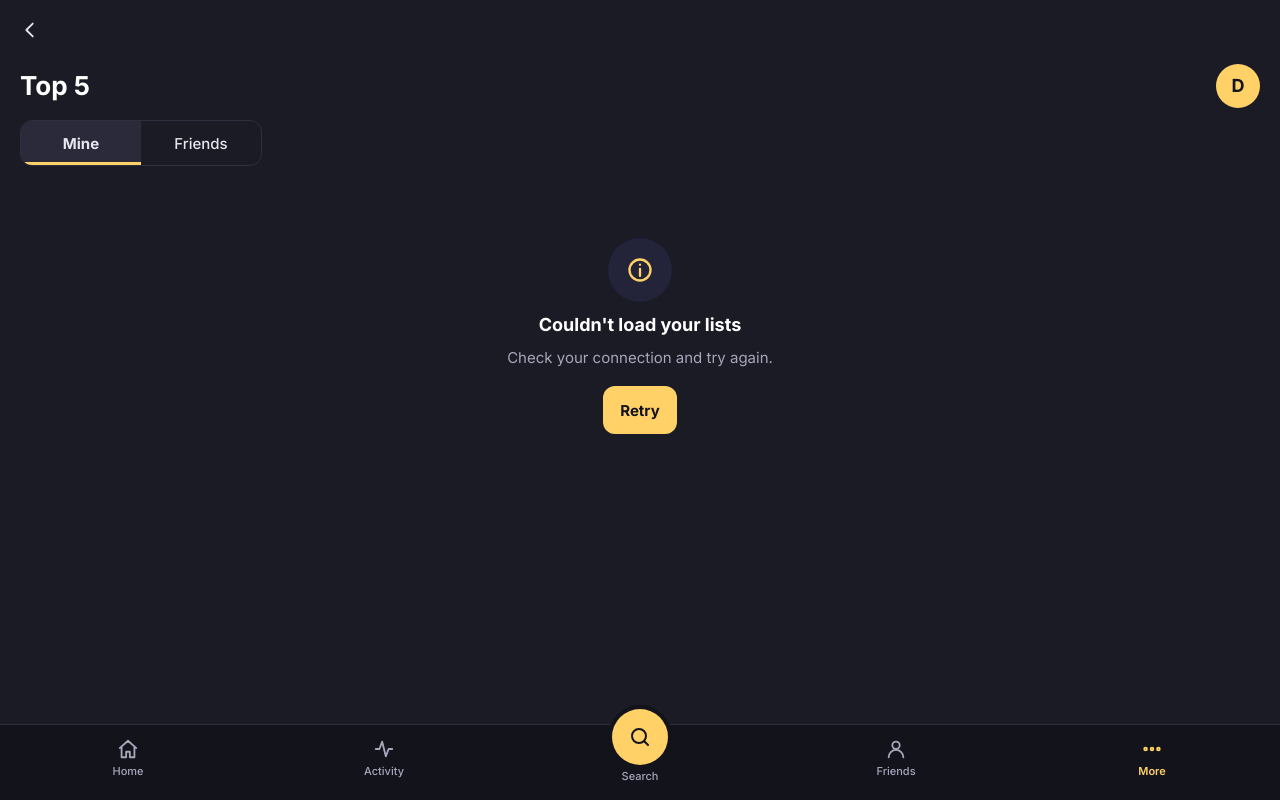
it: Top 5 screen › shows a retry, not an empty state, when the lists cannot be loaded
This screenshot has width=1280, height=800.
Expected: the heading "Couldn't load your lists" is shown, [539, 312, 741, 337]
Click the button "Retry" at (640, 410), box [603, 386, 677, 434]
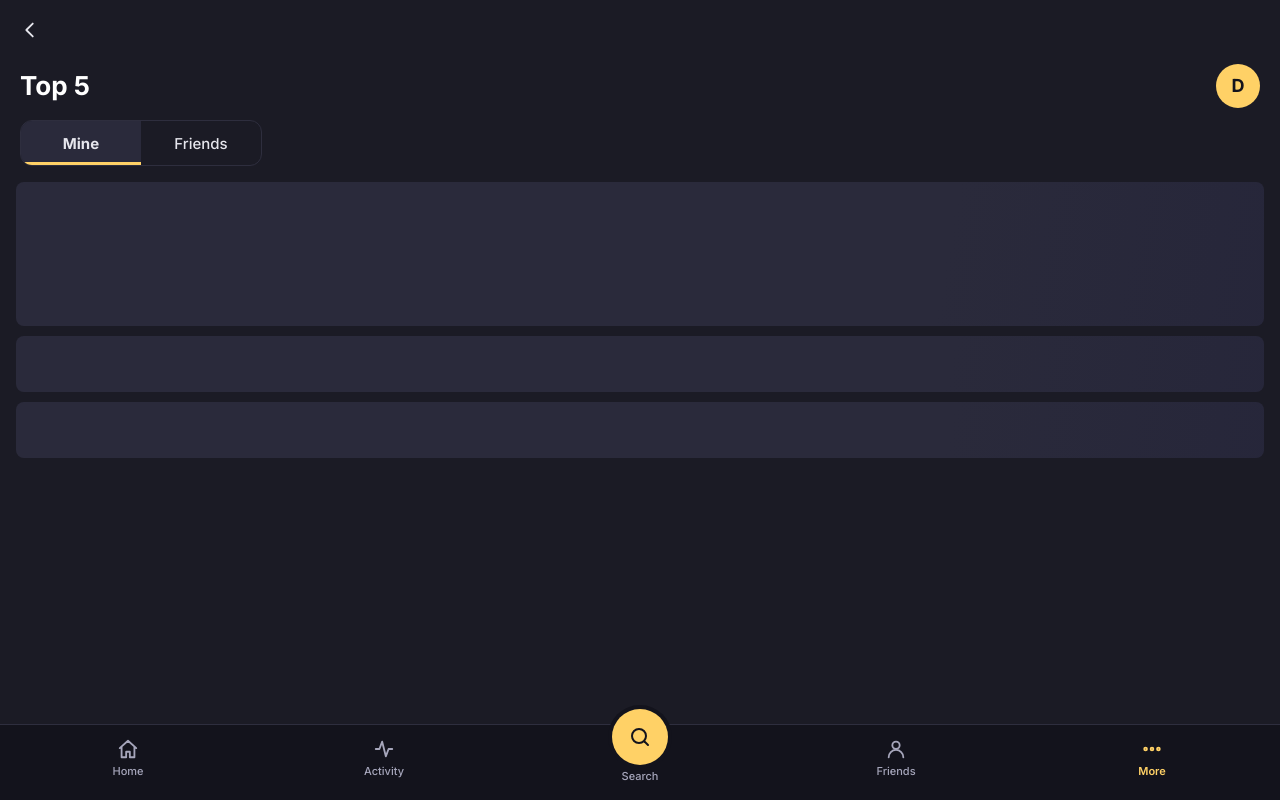
Result: the heading "Couldn't load your lists" is gone
